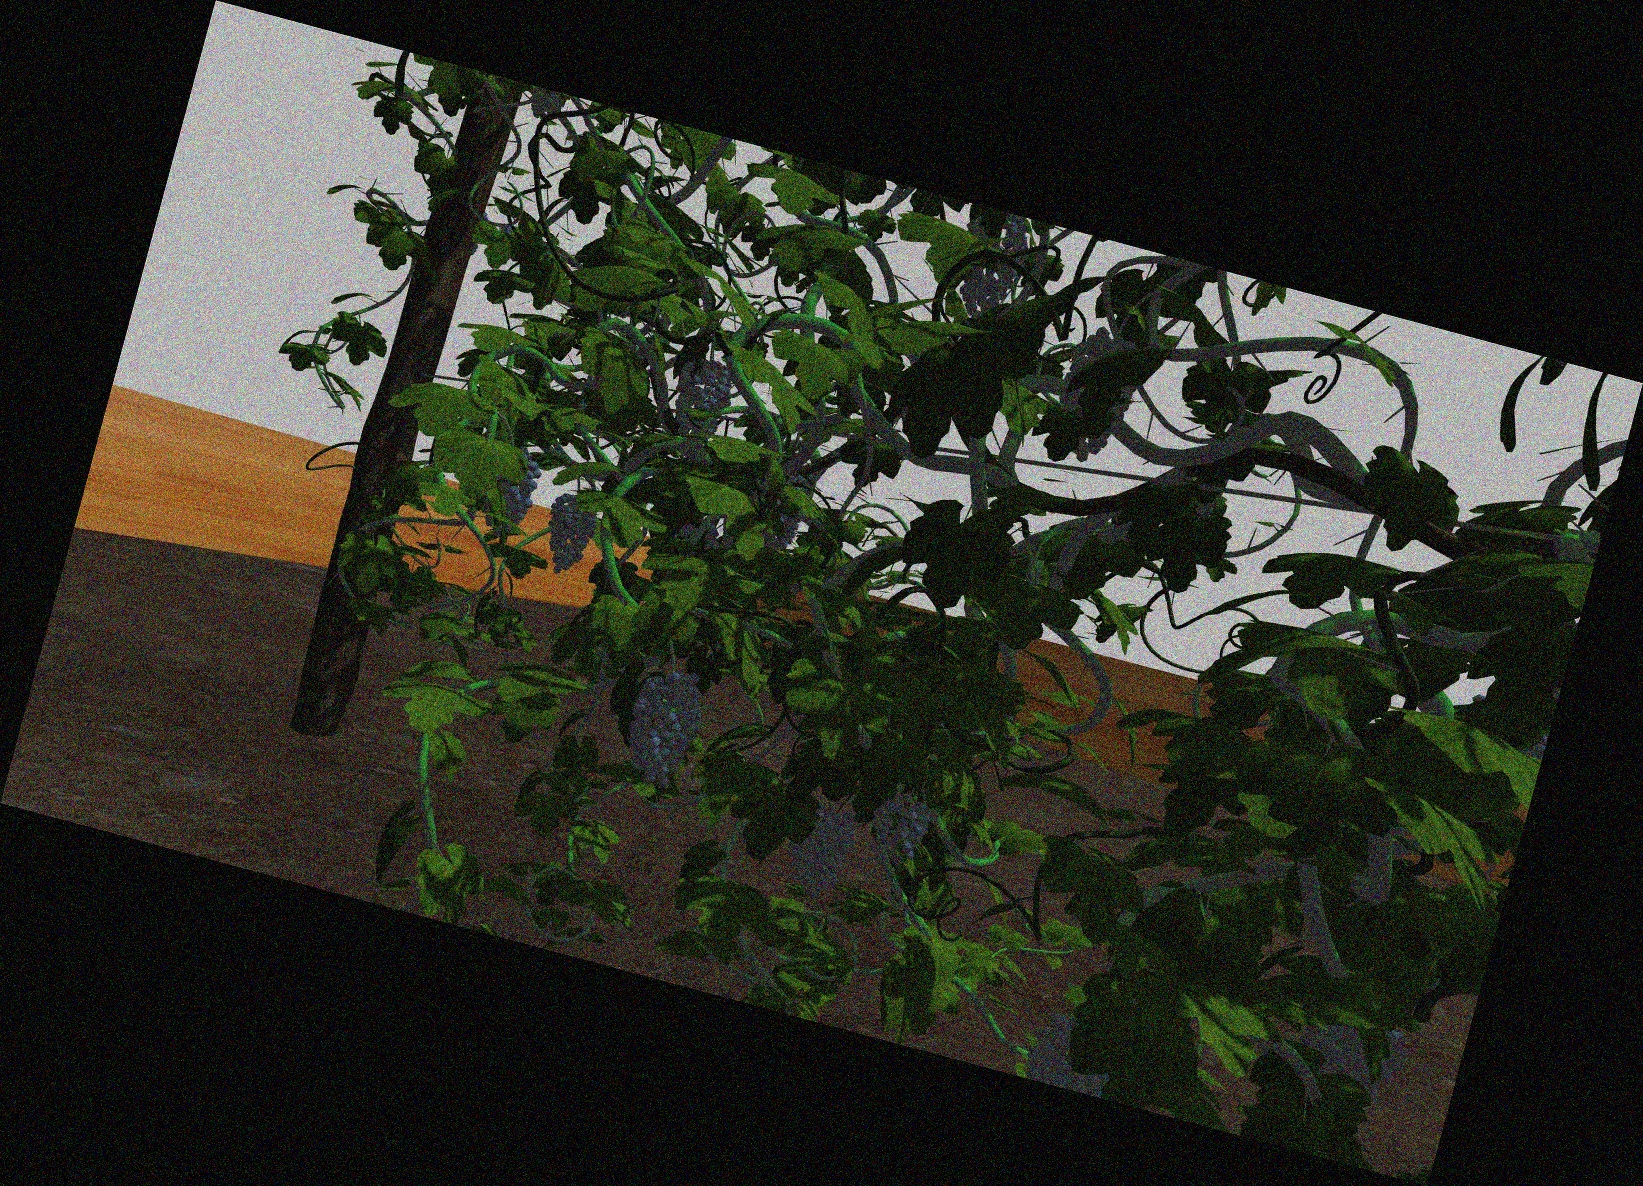grape: (628, 670, 696, 786), (790, 805, 853, 900), (676, 358, 733, 437), (871, 789, 929, 865), (486, 453, 536, 534), (546, 494, 593, 574)
